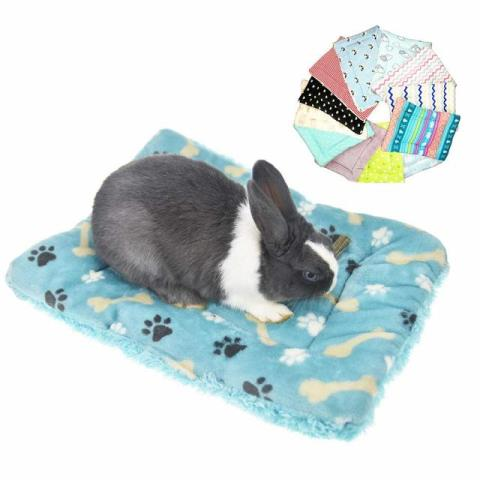small_animal: (88, 152, 342, 326)
